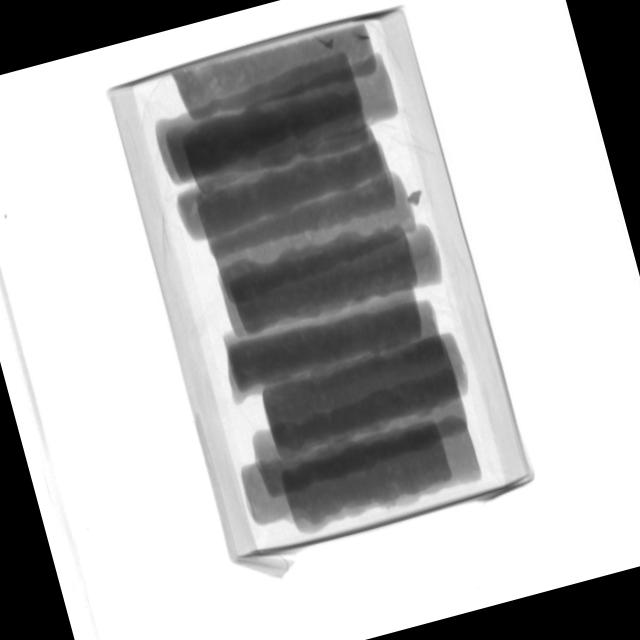ym: (354, 28, 374, 49), (407, 188, 426, 206), (319, 37, 336, 50)
